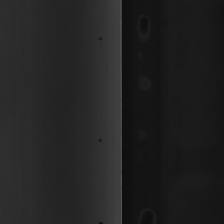oil_spot: (94, 30, 104, 50), (97, 129, 106, 149)
